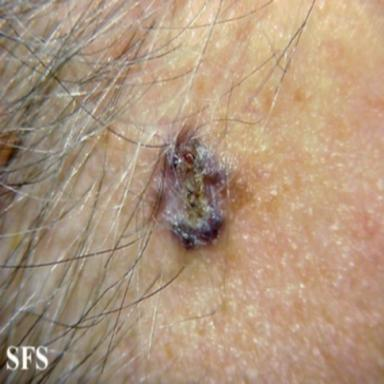basal-cell-carcinoma: (152, 126, 256, 248)
